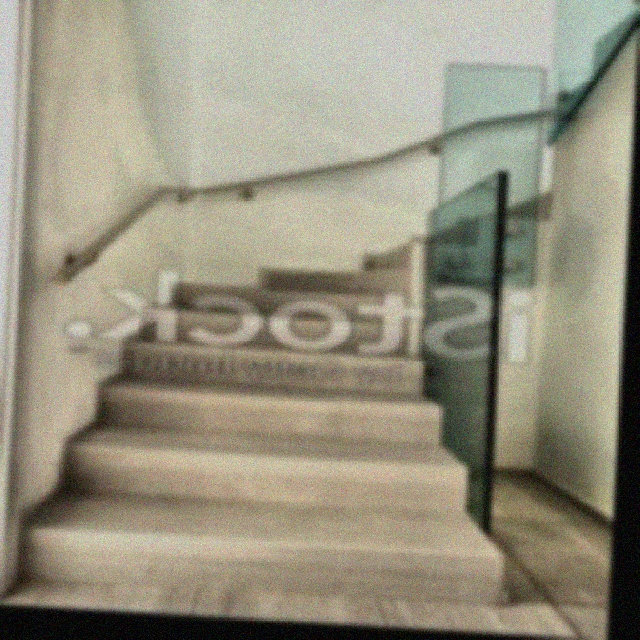stair: (15, 171, 503, 603)
